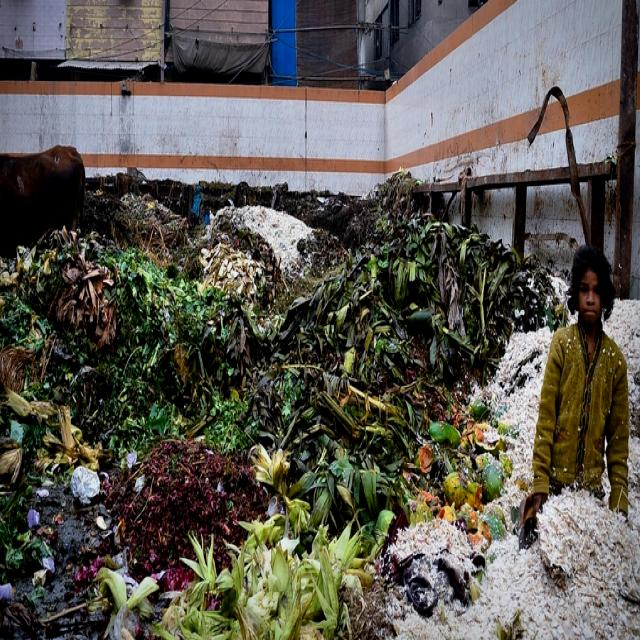inorganic: (520, 341, 626, 500)
organic: (497, 299, 638, 499), (279, 355, 421, 536), (179, 506, 372, 635), (0, 228, 128, 366), (313, 261, 423, 393), (392, 537, 527, 640), (509, 528, 618, 633), (94, 250, 170, 368), (202, 215, 286, 317), (170, 310, 256, 404), (445, 222, 522, 318), (95, 356, 172, 447), (0, 469, 56, 583), (390, 514, 480, 577), (382, 222, 441, 313), (509, 254, 568, 332), (491, 323, 553, 397), (607, 296, 639, 429), (223, 312, 254, 386)
